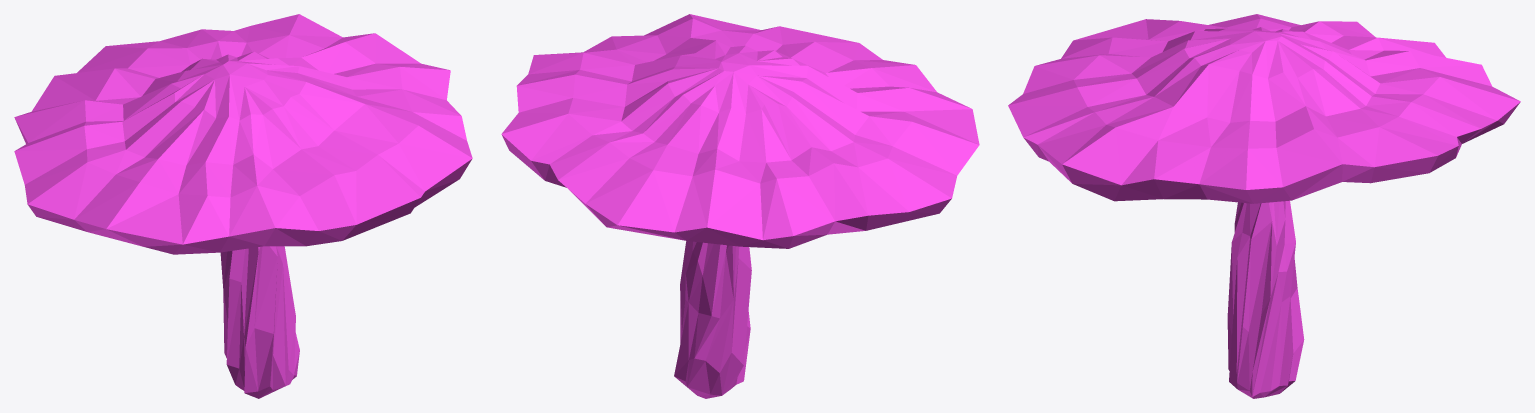
Rendered from SM_Mushroom_Glow_Medium_A_Fantasy.fbx.
3 views of the same model, side by side, from view 1: azimuth 30°, elevation 25°; view 2: azimuth 150°, elevation 25°; view 3: azimuth 270°, elevation 25° (orthographic). The views are drawn at different scales.
Visible parts, largest first — view 1: SM_Mushroom_Glow_Medium_A_Fantasy; view 2: SM_Mushroom_Glow_Medium_A_Fantasy; view 3: SM_Mushroom_Glow_Medium_A_Fantasy.
Part boxes in pixels (bbox=[...]): SM_Mushroom_Glow_Medium_A_Fantasy: bbox=[14, 14, 472, 398]; SM_Mushroom_Glow_Medium_A_Fantasy: bbox=[501, 14, 979, 398]; SM_Mushroom_Glow_Medium_A_Fantasy: bbox=[1008, 14, 1520, 398].
Bounding box in the file's own units: 1.19 × 0.9051 × 1.21.
